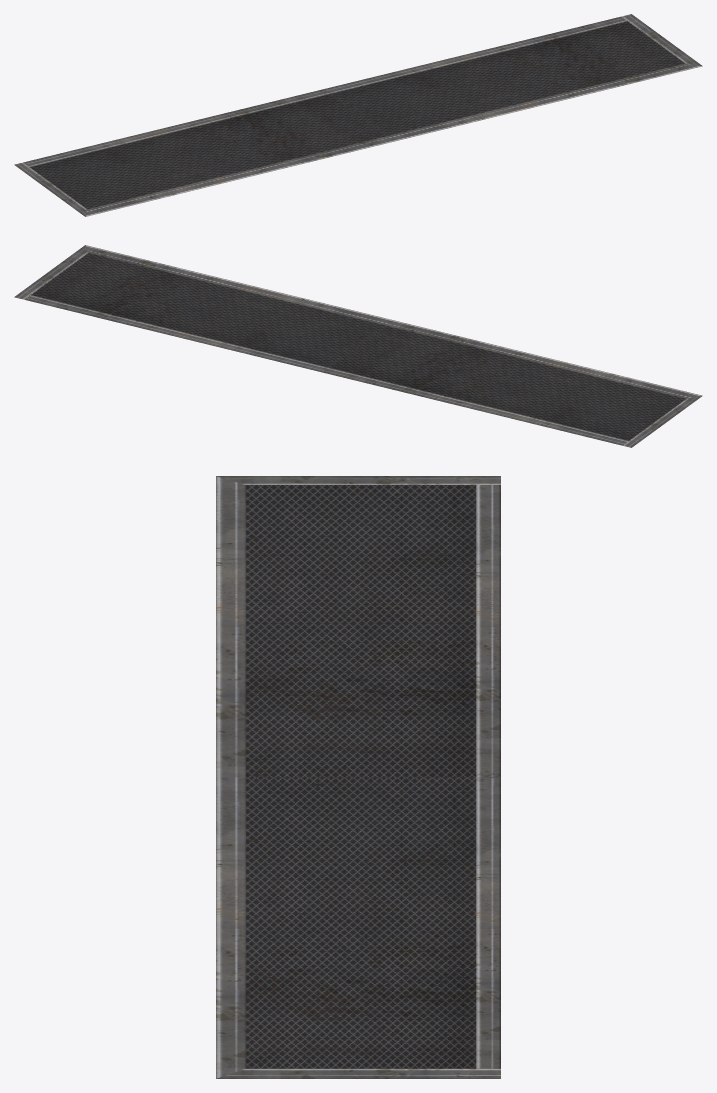
Rendered from Floor_G_2'5qmts_00.fbx.
3 renders of one model, top to bottom at view 1: azimuth 30°, elevation 25°; view 2: azimuth 150°, elevation 25°; view 3: azimuth 270°, elevation 25°, orthographic. The views are drawn at different scales.
Parts seen in each view (by area): view 1: Floor_G_2'5qmts_00; view 2: Floor_G_2'5qmts_00; view 3: Floor_G_2'5qmts_00.
Part boxes in pixels (x1,y1,x2,y2): Floor_G_2'5qmts_00: (14, 14, 702, 216); Floor_G_2'5qmts_00: (14, 245, 702, 447); Floor_G_2'5qmts_00: (216, 476, 500, 1078).
Size of the model in its own units: 500 by 0.000135 by 100.
1 material, 1 textured.
